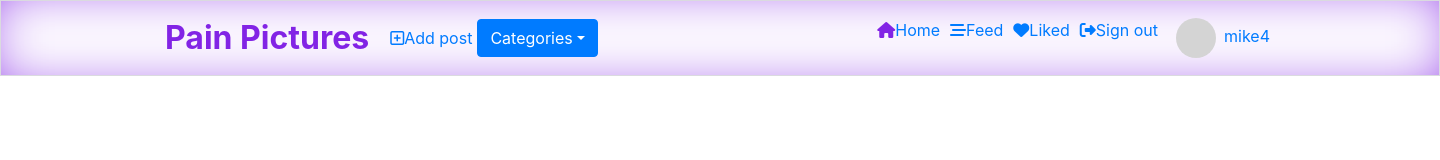
Test: renders Sign in and Sign up buttons again on log out
Step 1. Click the link "Sign out" → (1119,30), box [1080,20,1158,40]
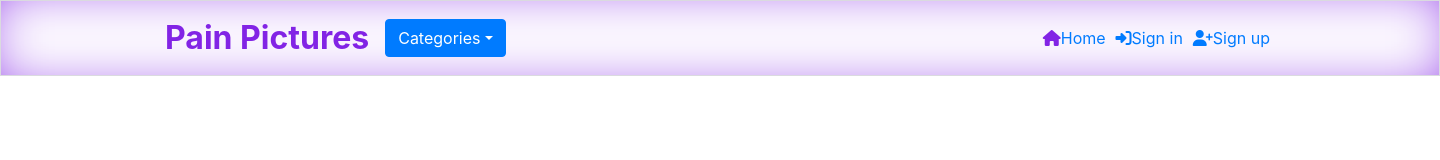
Now the link "Sign in" is shown, box [1116,28,1183,48]
Now the link "Sign up" is shown, box [1193,28,1270,48]
